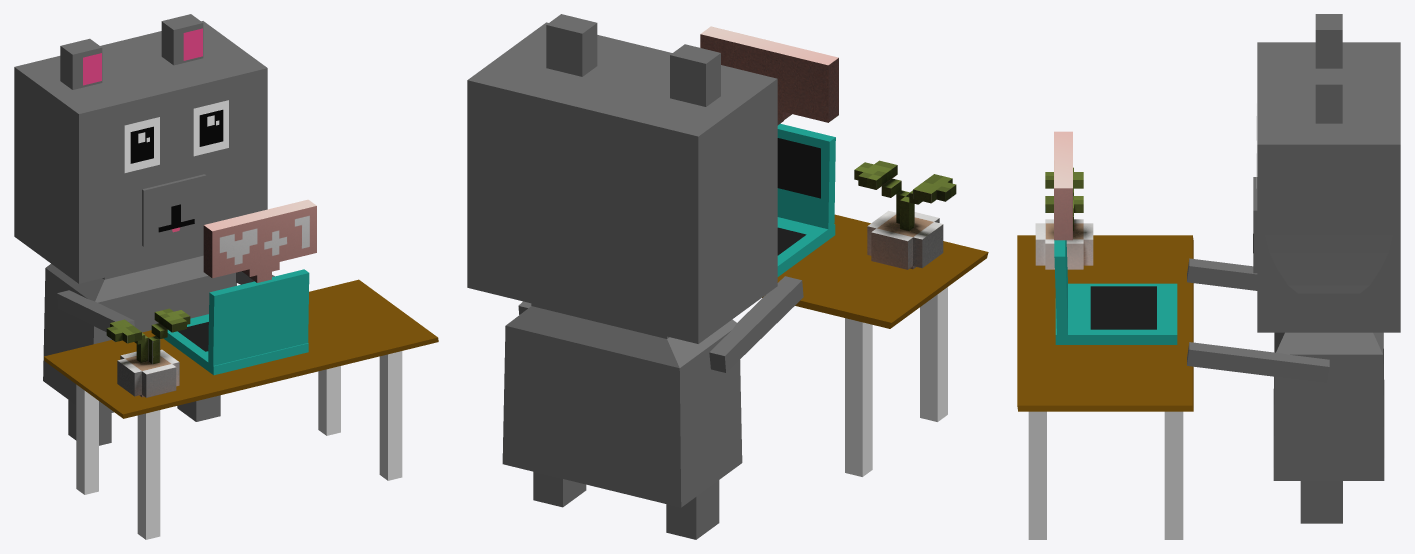
File: CAT_FIRDO.glb
3 views of the same model, side by side, from view 1: azimuth 30°, elevation 25°; view 2: azimuth 150°, elevation 25°; view 3: azimuth 270°, elevation 25° (orthographic). The views are drawn at different scales.
Parts seen in each view (by area): view 1: Cube.006, Table, Cube.005, main.001, main, Cube.002, Cube, Cube.003, Cube.004, Plane.003, Plane.005, Cube.001 (+3 smaller); view 2: Cube.006, Table, main.001, main, Cube.003, Cube.002, Cube.005, Plane, Cube.004; view 3: Cube.006, Table, Cube.004, Plane.001, main, Cube.001, Cube, main.001, Cube.005.
Part boxes in pixels (box(x1,y1,x2,y2)): Cube.006: box(14, 14, 274, 445); Table: box(44, 279, 438, 418); Cube.005: box(208, 269, 309, 371); main.001: box(203, 199, 316, 282); main: box(106, 308, 190, 397); Cube.002: box(137, 410, 160, 539); Cube: box(379, 351, 402, 480); Cube.003: box(76, 384, 98, 494); Cube.004: box(163, 314, 308, 375); Plane.003: box(124, 117, 159, 172); Plane.005: box(193, 100, 228, 156); Cube.001: box(318, 366, 340, 435); Cube.006: box(467, 14, 803, 539); Table: box(762, 214, 988, 328); main.001: box(700, 26, 838, 125); main: box(854, 160, 956, 269); Cube.003: box(845, 318, 872, 476); Cube.002: box(920, 287, 947, 421); Cube.005: box(777, 123, 835, 237); Plane: box(777, 138, 820, 198); Cube.004: box(777, 217, 835, 276); Cube.006: box(1187, 14, 1400, 523); Table: box(1017, 235, 1193, 411); Cube.004: box(1055, 283, 1177, 344); Plane.001: box(1090, 286, 1156, 329); main: box(1035, 167, 1093, 269); Cube.001: box(1164, 411, 1183, 539); Cube: box(1028, 411, 1046, 539); main.001: box(1054, 131, 1072, 240); Cube.005: box(1054, 240, 1067, 343).
Size of what is drawn, in the model's own units: 4.22 by 4.99 by 4.
12 materials, 1 textured.
